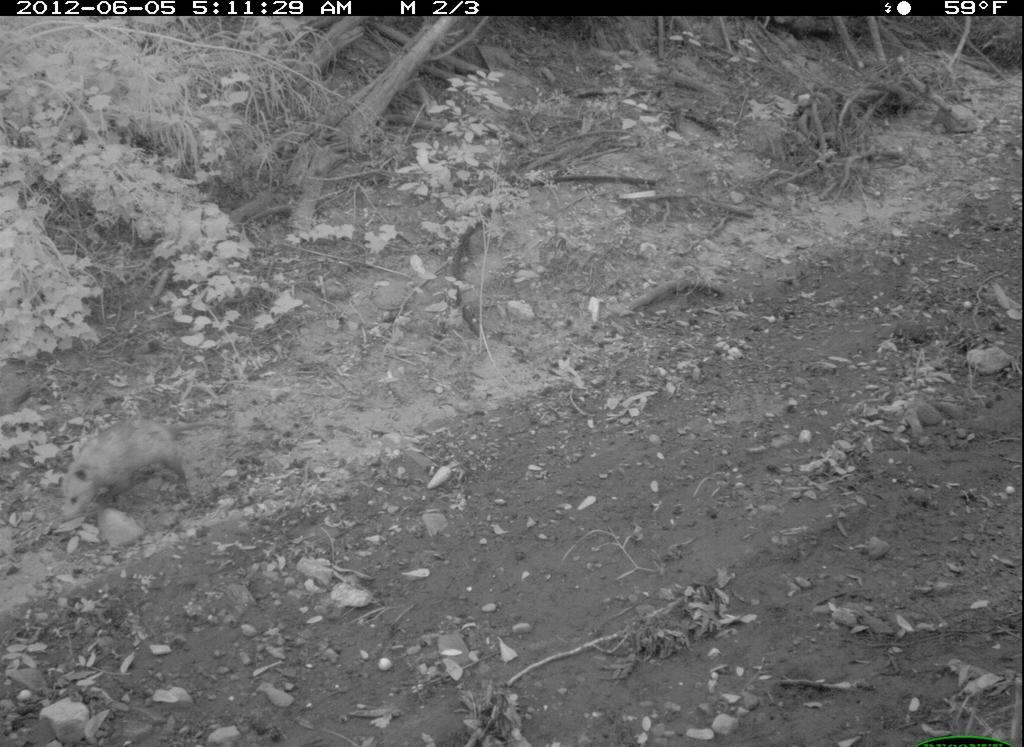opossum: (54, 415, 229, 530)
